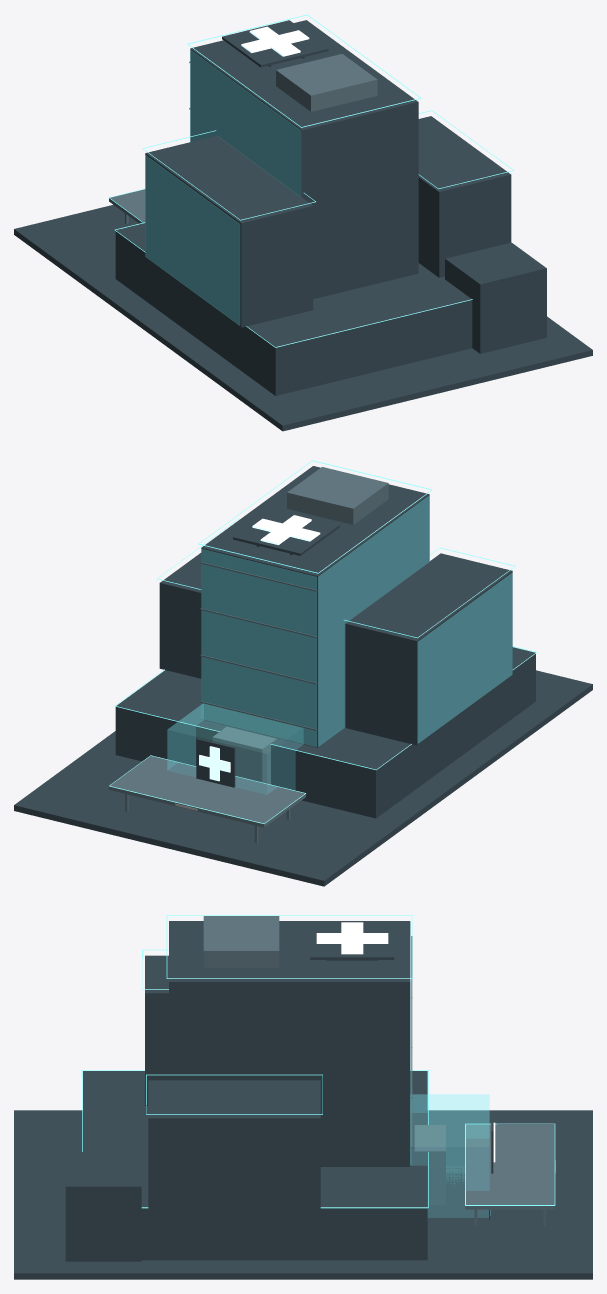
File: hospital.lod1.glb
3 views of the same model, one above another, from view 1: azimuth 30°, elevation 25°; view 2: azimuth 150°, elevation 25°; view 3: azimuth 270°, elevation 25° (orthographic). The views are drawn at different scales.
Parts seen in each view (by area): view 1: hospital_graphite.001, hospital_glass.001, hospital_graphite_light.001, hospital_edge.001, hospital_white.001; view 2: hospital_graphite.001, hospital_glass.001, hospital_graphite_light.001, hospital_edge.001, hospital_white.001; view 3: hospital_graphite.001, hospital_graphite_light.001, hospital_glass.001, hospital_edge.001, hospital_white.001.
Part boxes in pixels (<box>): hospital_graphite.001: <box>14,20,592,431</box>; hospital_glass.001: <box>145,50,301,325</box>; hospital_graphite_light.001: <box>109,54,377,224</box>; hospital_edge.001: <box>109,14,513,347</box>; hospital_white.001: <box>241,26,309,56</box>; hospital_graphite.001: <box>14,466,592,886</box>; hospital_glass.001: <box>167,495,512,794</box>; hospital_graphite_light.001: <box>109,467,388,842</box>; hospital_edge.001: <box>109,460,536,823</box>; hospital_white.001: <box>199,515,320,781</box>; hospital_graphite.001: <box>14,921,592,1279</box>; hospital_graphite_light.001: <box>203,916,554,1226</box>; hospital_glass.001: <box>410,922,490,1217</box>; hospital_edge.001: <box>81,915,555,1208</box>; hospital_white.001: <box>316,922,495,1162</box>.
Size of the model in its own units: 56 by 41.9 by 84.
